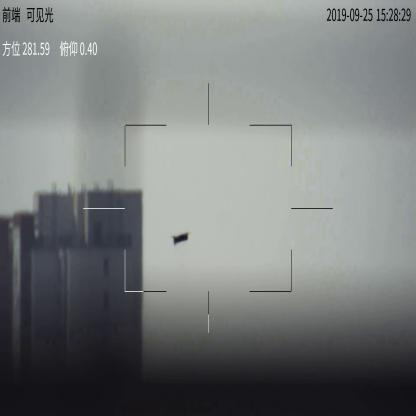uav: (173, 233, 189, 245)
